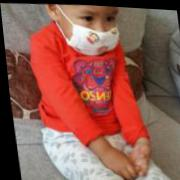WRONG: (64, 4, 122, 59)
